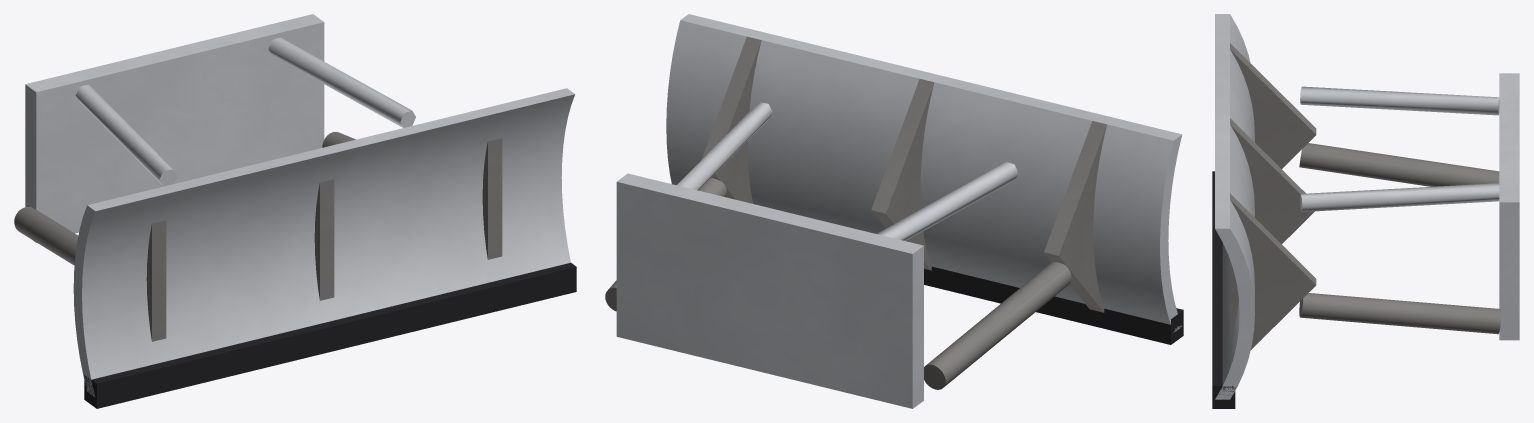
The model's file is rover32_dozer_scoop_s.glb.
3 views of the same model, side by side, from view 1: azimuth 30°, elevation 25°; view 2: azimuth 150°, elevation 25°; view 3: azimuth 270°, elevation 25° (orthographic). The views are drawn at different scales.
Parts seen in each view (by area): view 1: blade, mount_plate, blade_edge, blade_ribs, arm_rams, arm_push; view 2: blade, mount_plate, blade_ribs, arm_push, arm_rams, blade_edge; view 3: blade_ribs, blade, arm_push, arm_rams, mount_plate, blade_edge.
Part boxes in pixels (x1,y1,x2,y2): blade: (73,88,575,397); mount_plate: (25,14,324,242); blade_edge: (84,262,576,408); blade_ribs: (146,138,502,341); arm_rams: (75,37,415,186); arm_push: (14,132,355,265); blade: (666,14,1182,332); mount_plate: (616,173,923,408); blade_ribs: (701,36,1106,312); arm_push: (605,178,1071,389); arm_rams: (677,102,1018,240); blade_edge: (924,266,1183,344); blade_ribs: (1230,43,1316,349); blade: (1215,14,1254,399); arm_push: (1299,143,1501,334); arm_rams: (1300,86,1499,211); mount_plate: (1499,73,1519,340); blade_edge: (1212,171,1235,408).
Bounding box in the file's own units: 1 × 0.3917 × 0.605.
3 materials, 2 textured.
